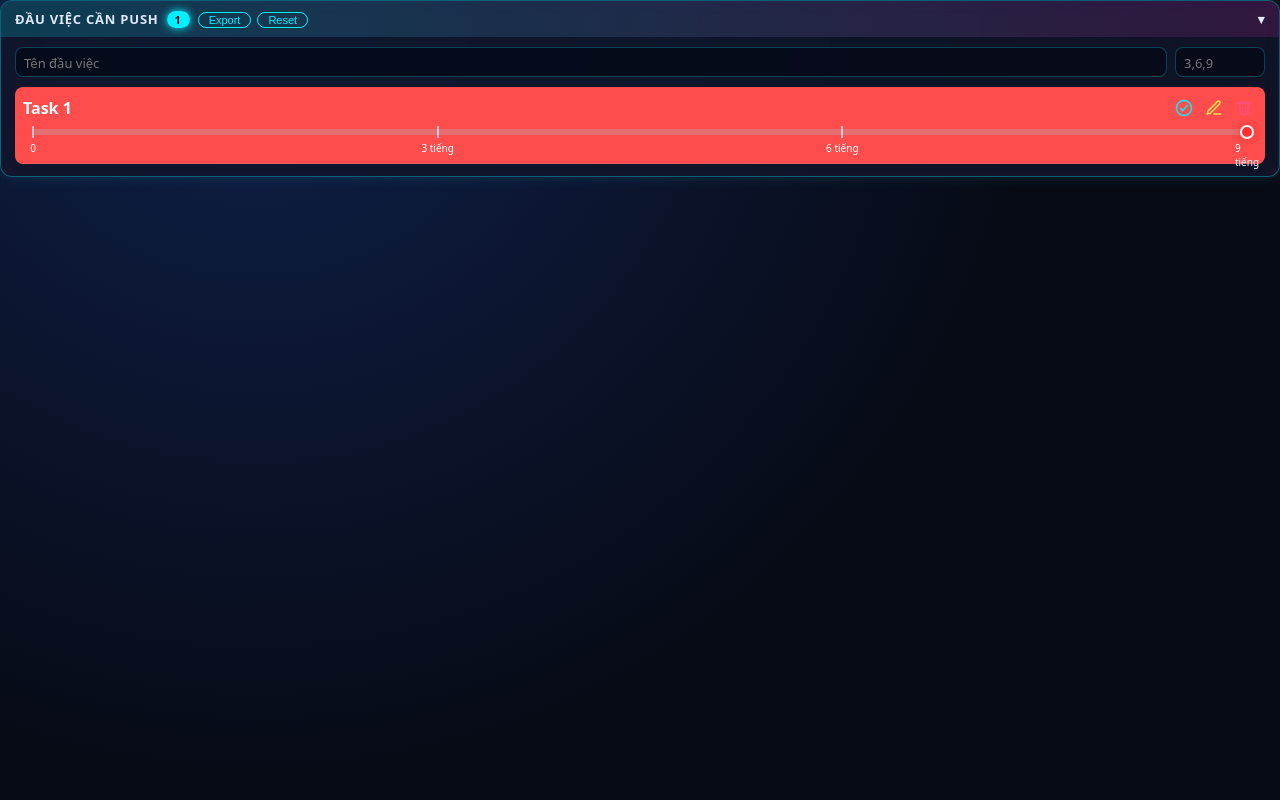
PushTaskPanel › bấm Sửa điền form + nhãn Sửa; đổi tên giữ nguyên tiến độ chu kỳ
This screenshot has width=1280, height=800.
Expected: the text "Task 1" is shown, [23,97,72,119]
Click the button named "Sửa giờ push" at (1214, 108), box [1201,95,1227,121]
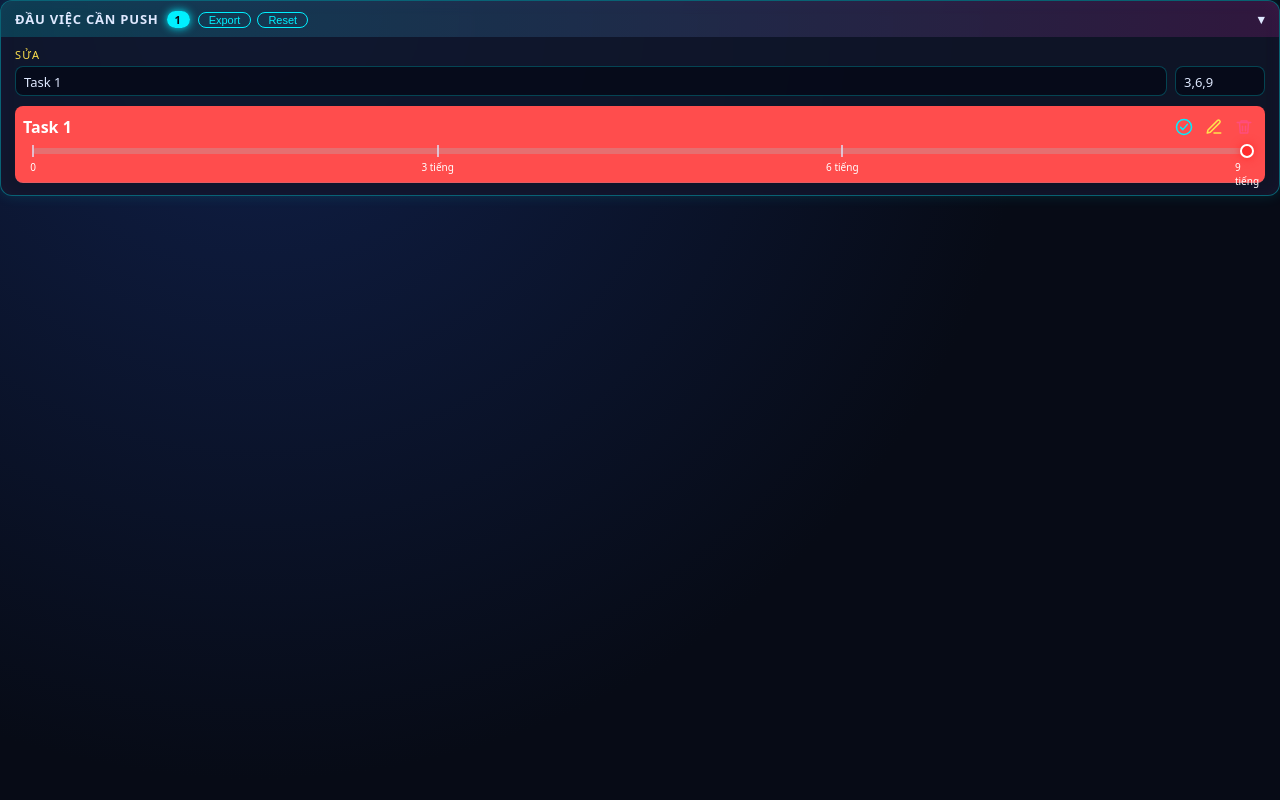
Result: the text "Sửa" is shown at [15,47,40,62]
Result: the text box named "Tên đầu việc" holds "Task 1"
Result: the text box named "Mốc nhắc (giờ)" holds "3,6,9" at [1175,66,1265,96]
Replace the text in the text box named "Tên đầu việc" with "Renamed" at (591, 81), box [15,66,1167,96]
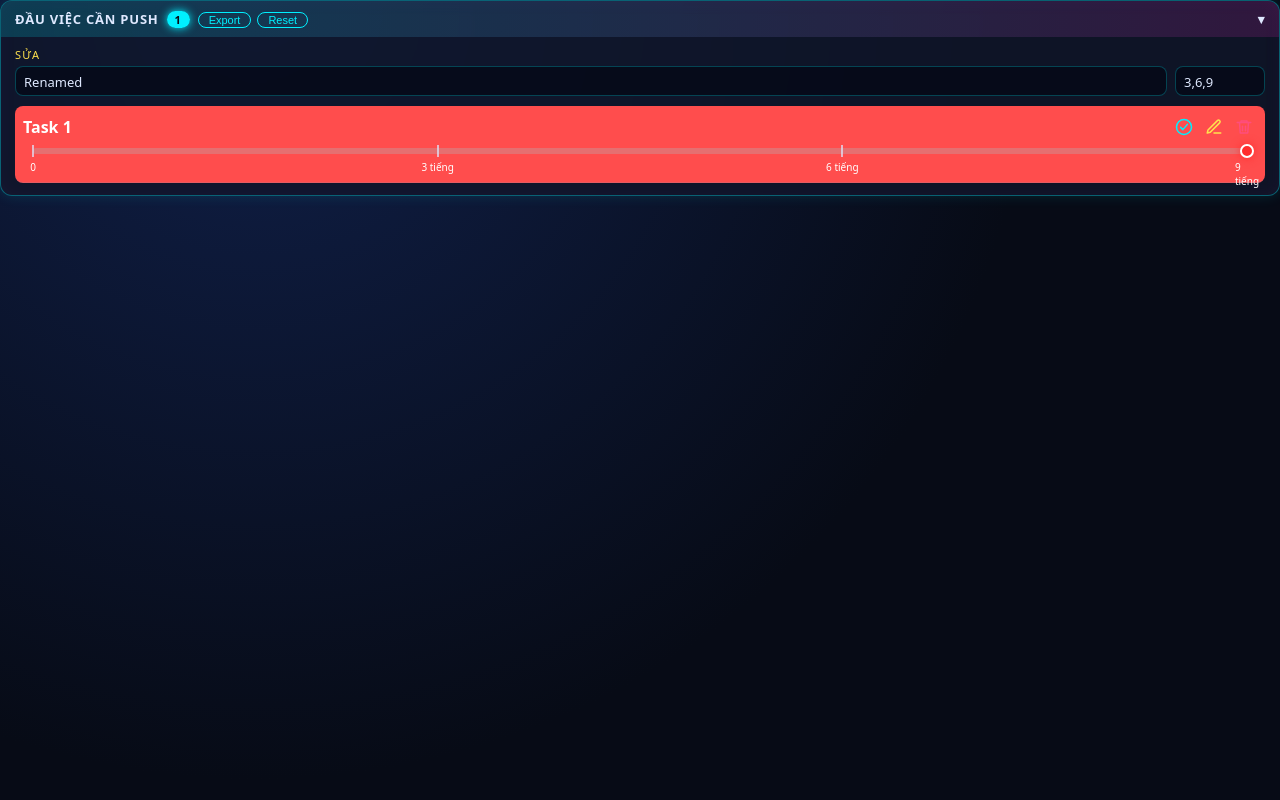
Press Enter in the text box named "Tên đầu việc", box [15,66,1167,96]
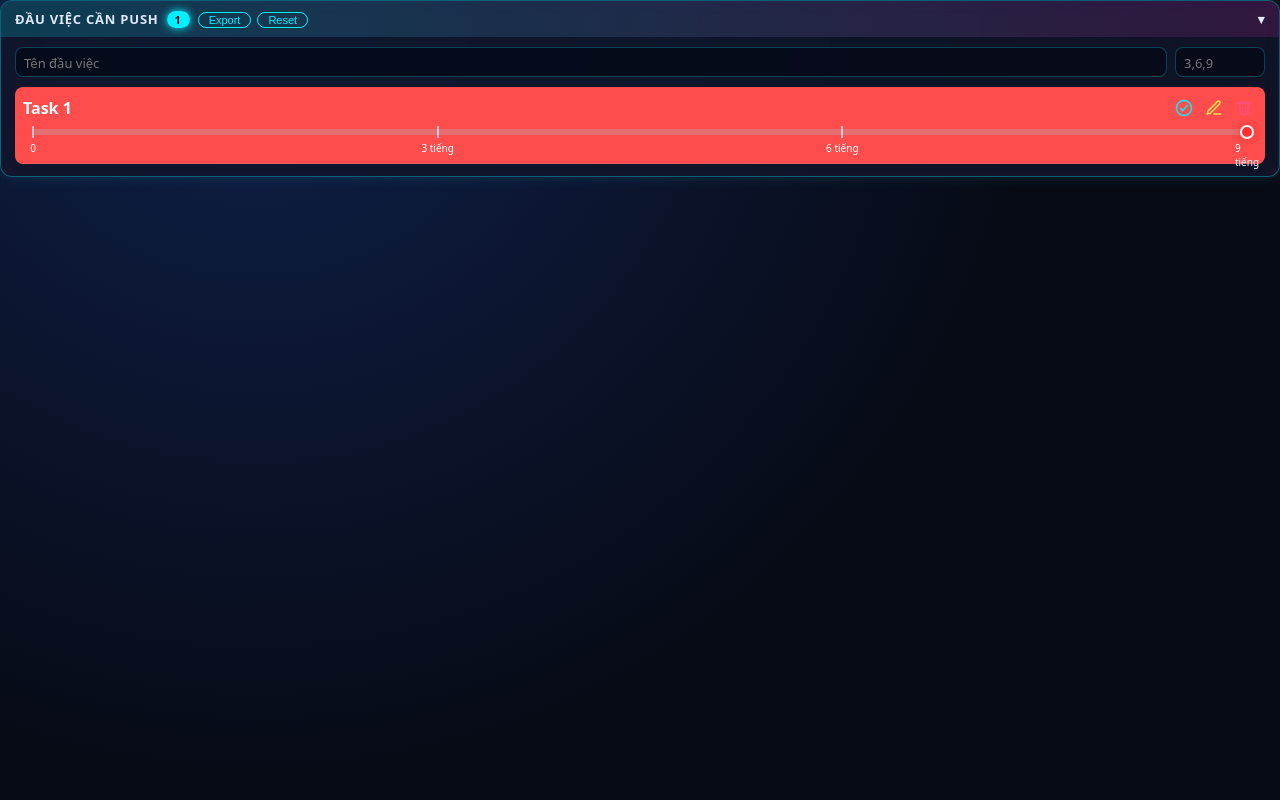
Result: the text "Sửa" is gone
